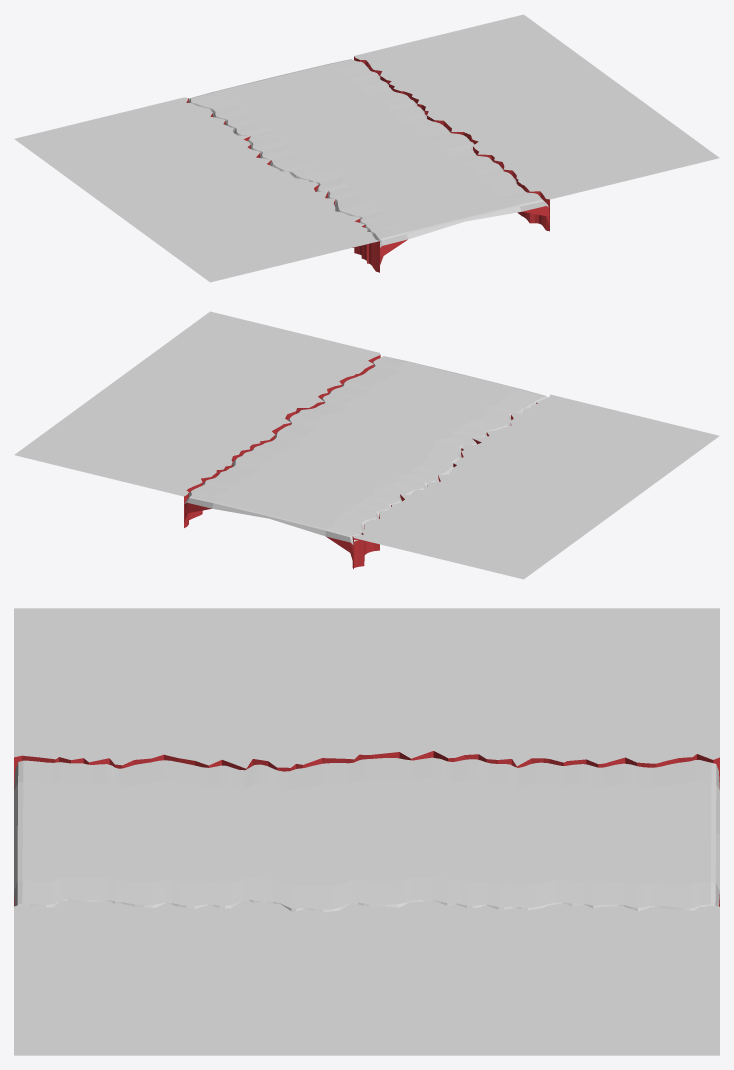
3 views of the same model, one above another, from view 1: azimuth 30°, elevation 25°; view 2: azimuth 150°, elevation 25°; view 3: azimuth 270°, elevation 25° (orthographic). The views are drawn at different scales.
Visible parts, largest first — view 1: Base.001, Base.002, Base; view 2: Base.001, Base.002, Base; view 3: Base.002, Base.001, Base.
Part boxes in pixels (<box>): Base.001: <box>354,14,719,231</box>; Base.002: <box>14,97,379,282</box>; Base: <box>188,59,549,266</box>; Base.001: <box>14,311,380,527</box>; Base.002: <box>352,394,719,579</box>; Base: <box>184,356,546,567</box>; Base.002: <box>14,608,719,788</box>; Base.001: <box>14,899,719,1055</box>; Base: <box>14,757,719,912</box>.
Size of the model in its own units: 8400 by 500 by 5600.
